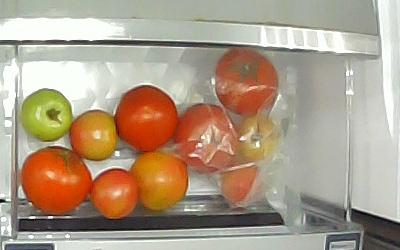tomato: (21, 145, 92, 216), (115, 85, 178, 152), (130, 152, 189, 212), (21, 88, 74, 143), (68, 109, 117, 161), (92, 168, 139, 220)
tomato_vinyl: (175, 103, 238, 173), (215, 48, 278, 115), (238, 116, 279, 160), (220, 160, 259, 203)
